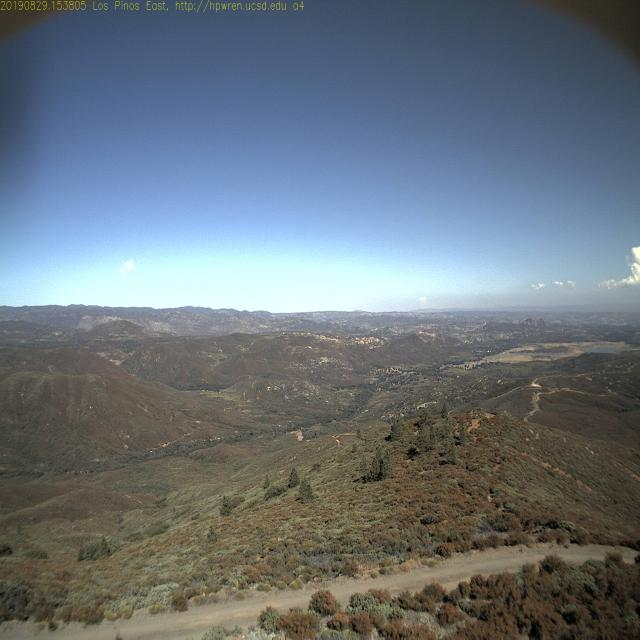smoke: (411, 292, 430, 310)
